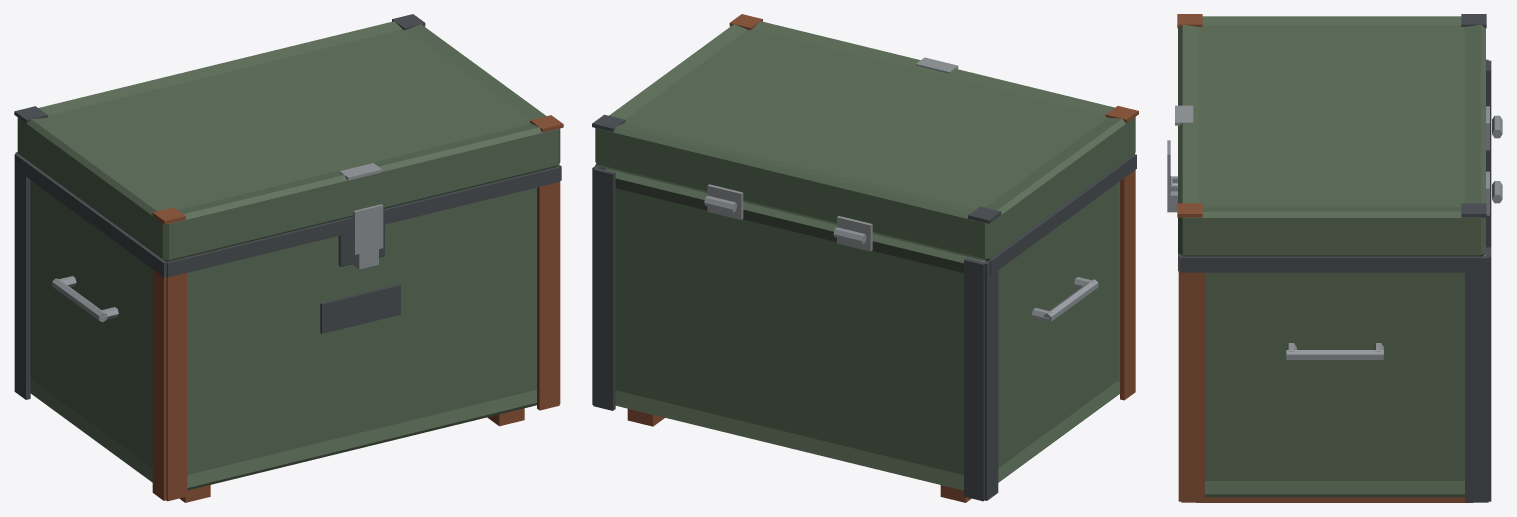
File: loot_cache_woodland.glb
3 renders of one model, left to right at view 1: azimuth 30°, elevation 25°; view 2: azimuth 150°, elevation 25°; view 3: azimuth 270°, elevation 25°, orthographic. The views are drawn at different scales.
Visible parts, largest first — view 1: Cache_Body, Cache_Lid, Cache_Latch; view 2: Cache_Body, Cache_Lid; view 3: Cache_Lid, Cache_Body, Cache_Latch.
Boxes of the visible parts, bbox=[...] form: Cache_Body: bbox=[14, 152, 560, 502]; Cache_Lid: bbox=[14, 14, 563, 277]; Cache_Latch: bbox=[339, 163, 383, 254]; Cache_Body: bbox=[592, 165, 1135, 502]; Cache_Lid: bbox=[592, 14, 1138, 275]; Cache_Lid: bbox=[1177, 14, 1502, 272]; Cache_Body: bbox=[1167, 59, 1491, 502]; Cache_Latch: bbox=[1167, 105, 1193, 198].
Bounding box in the file's own units: 1.5 × 1 × 1.
